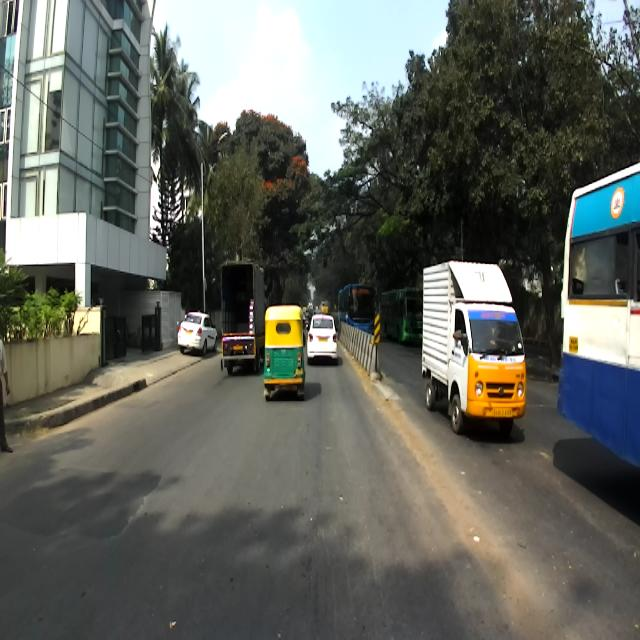auto ahead at: (262, 304, 304, 398)
car ahead at: (419, 260, 527, 432), (308, 314, 342, 378), (174, 306, 214, 358)
truck ahead at: (216, 256, 262, 374)
